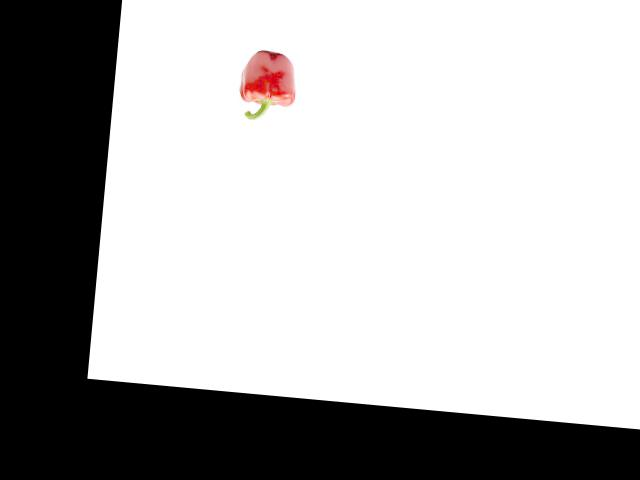bell_pepper: (233, 45, 303, 125)
